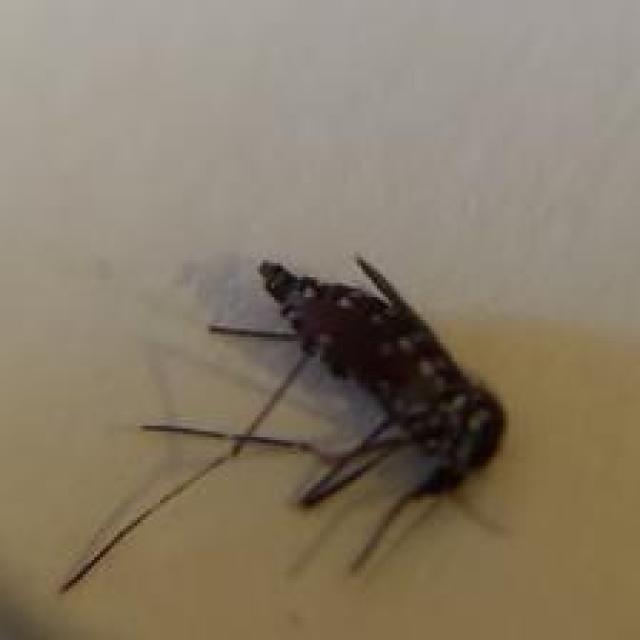Aedes albopictus: (59, 252, 510, 594)
